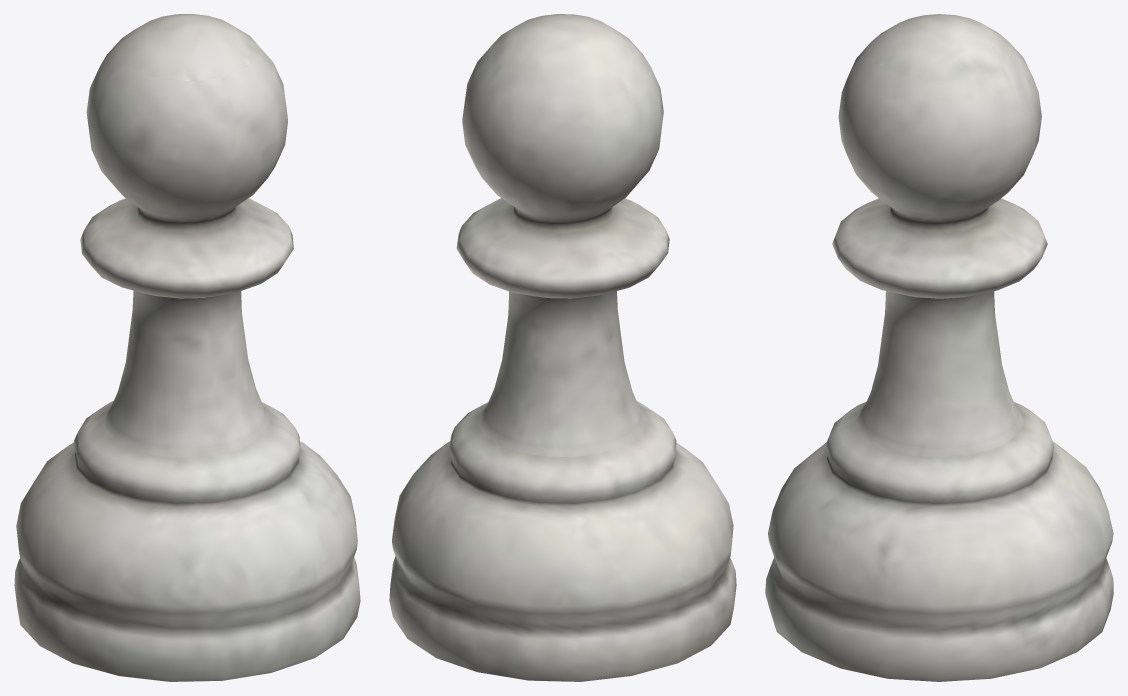
File: chess_set__pawn.glb
The picture shows the model from 3 angles, left to right: view 1: azimuth 30°, elevation 25°; view 2: azimuth 150°, elevation 25°; view 3: azimuth 270°, elevation 25°; orthographic projection.
Visible parts, largest first — view 1: chess_set_pieces_white; view 2: chess_set_pieces_white; view 3: chess_set_pieces_white.
Boxes of the visible parts, box(x1,y1,x2,y2) form: chess_set_pieces_white: box(14, 14, 360, 681); chess_set_pieces_white: box(389, 14, 736, 681); chess_set_pieces_white: box(765, 14, 1113, 681).
Size of the model in its own units: 0.0289 by 0.0537 by 0.0289.
Materials: 1 (1 with a texture image).
